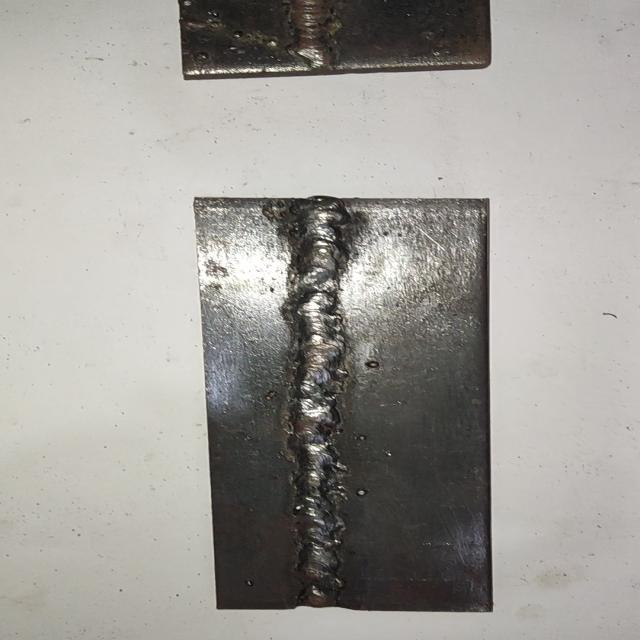Good Weld: (291, 205, 351, 603)
